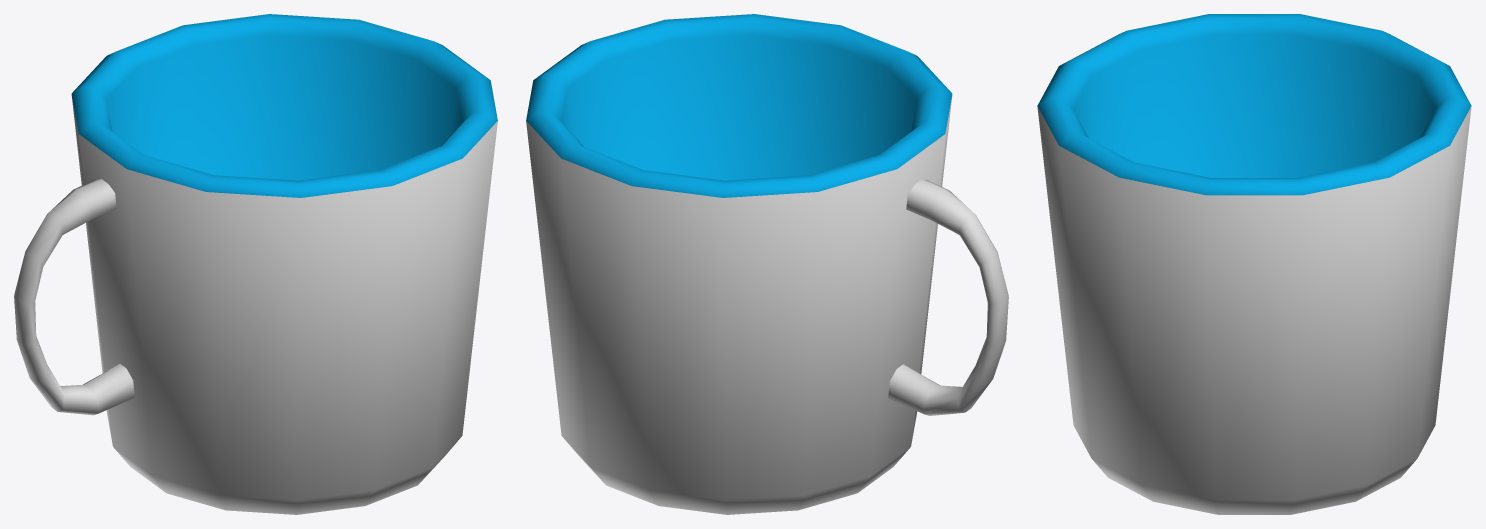
The model's file is Blue_mug.fbx.
3 views of the same model, side by side, from view 1: azimuth 30°, elevation 25°; view 2: azimuth 150°, elevation 25°; view 3: azimuth 270°, elevation 25° (orthographic).
Visible parts, largest first — view 1: Blue_mug; view 2: Blue_mug; view 3: Blue_mug.
Boxes of the visible parts, box(x1,y1,x2,y2) form: Blue_mug: box(14, 14, 497, 514); Blue_mug: box(526, 14, 1008, 514); Blue_mug: box(1037, 14, 1471, 514).
Size of the model in its own units: 0.0338 by 0.0249 by 0.0281.
1 material, 1 textured.
